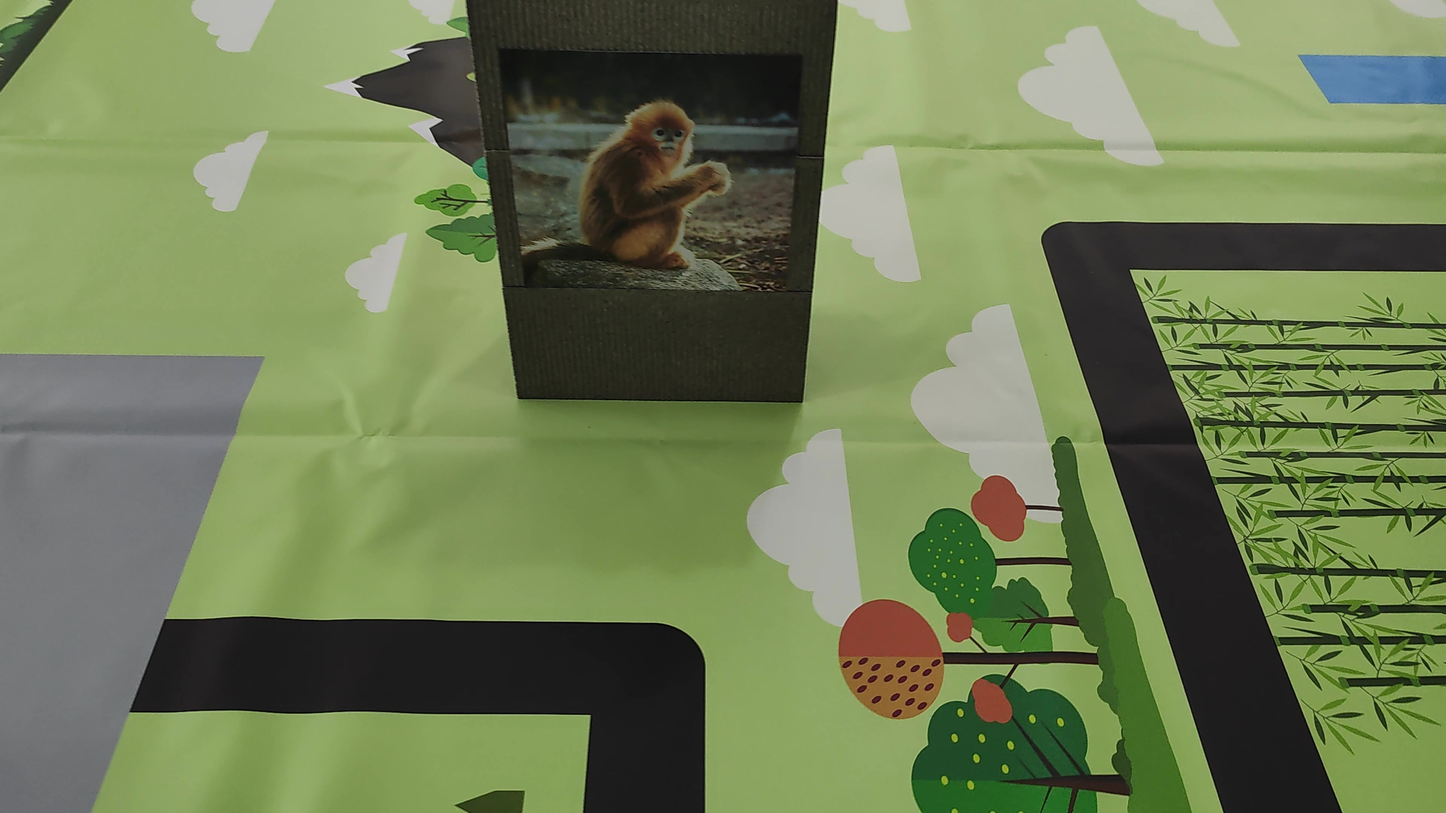monkey: (533, 67, 782, 275)
